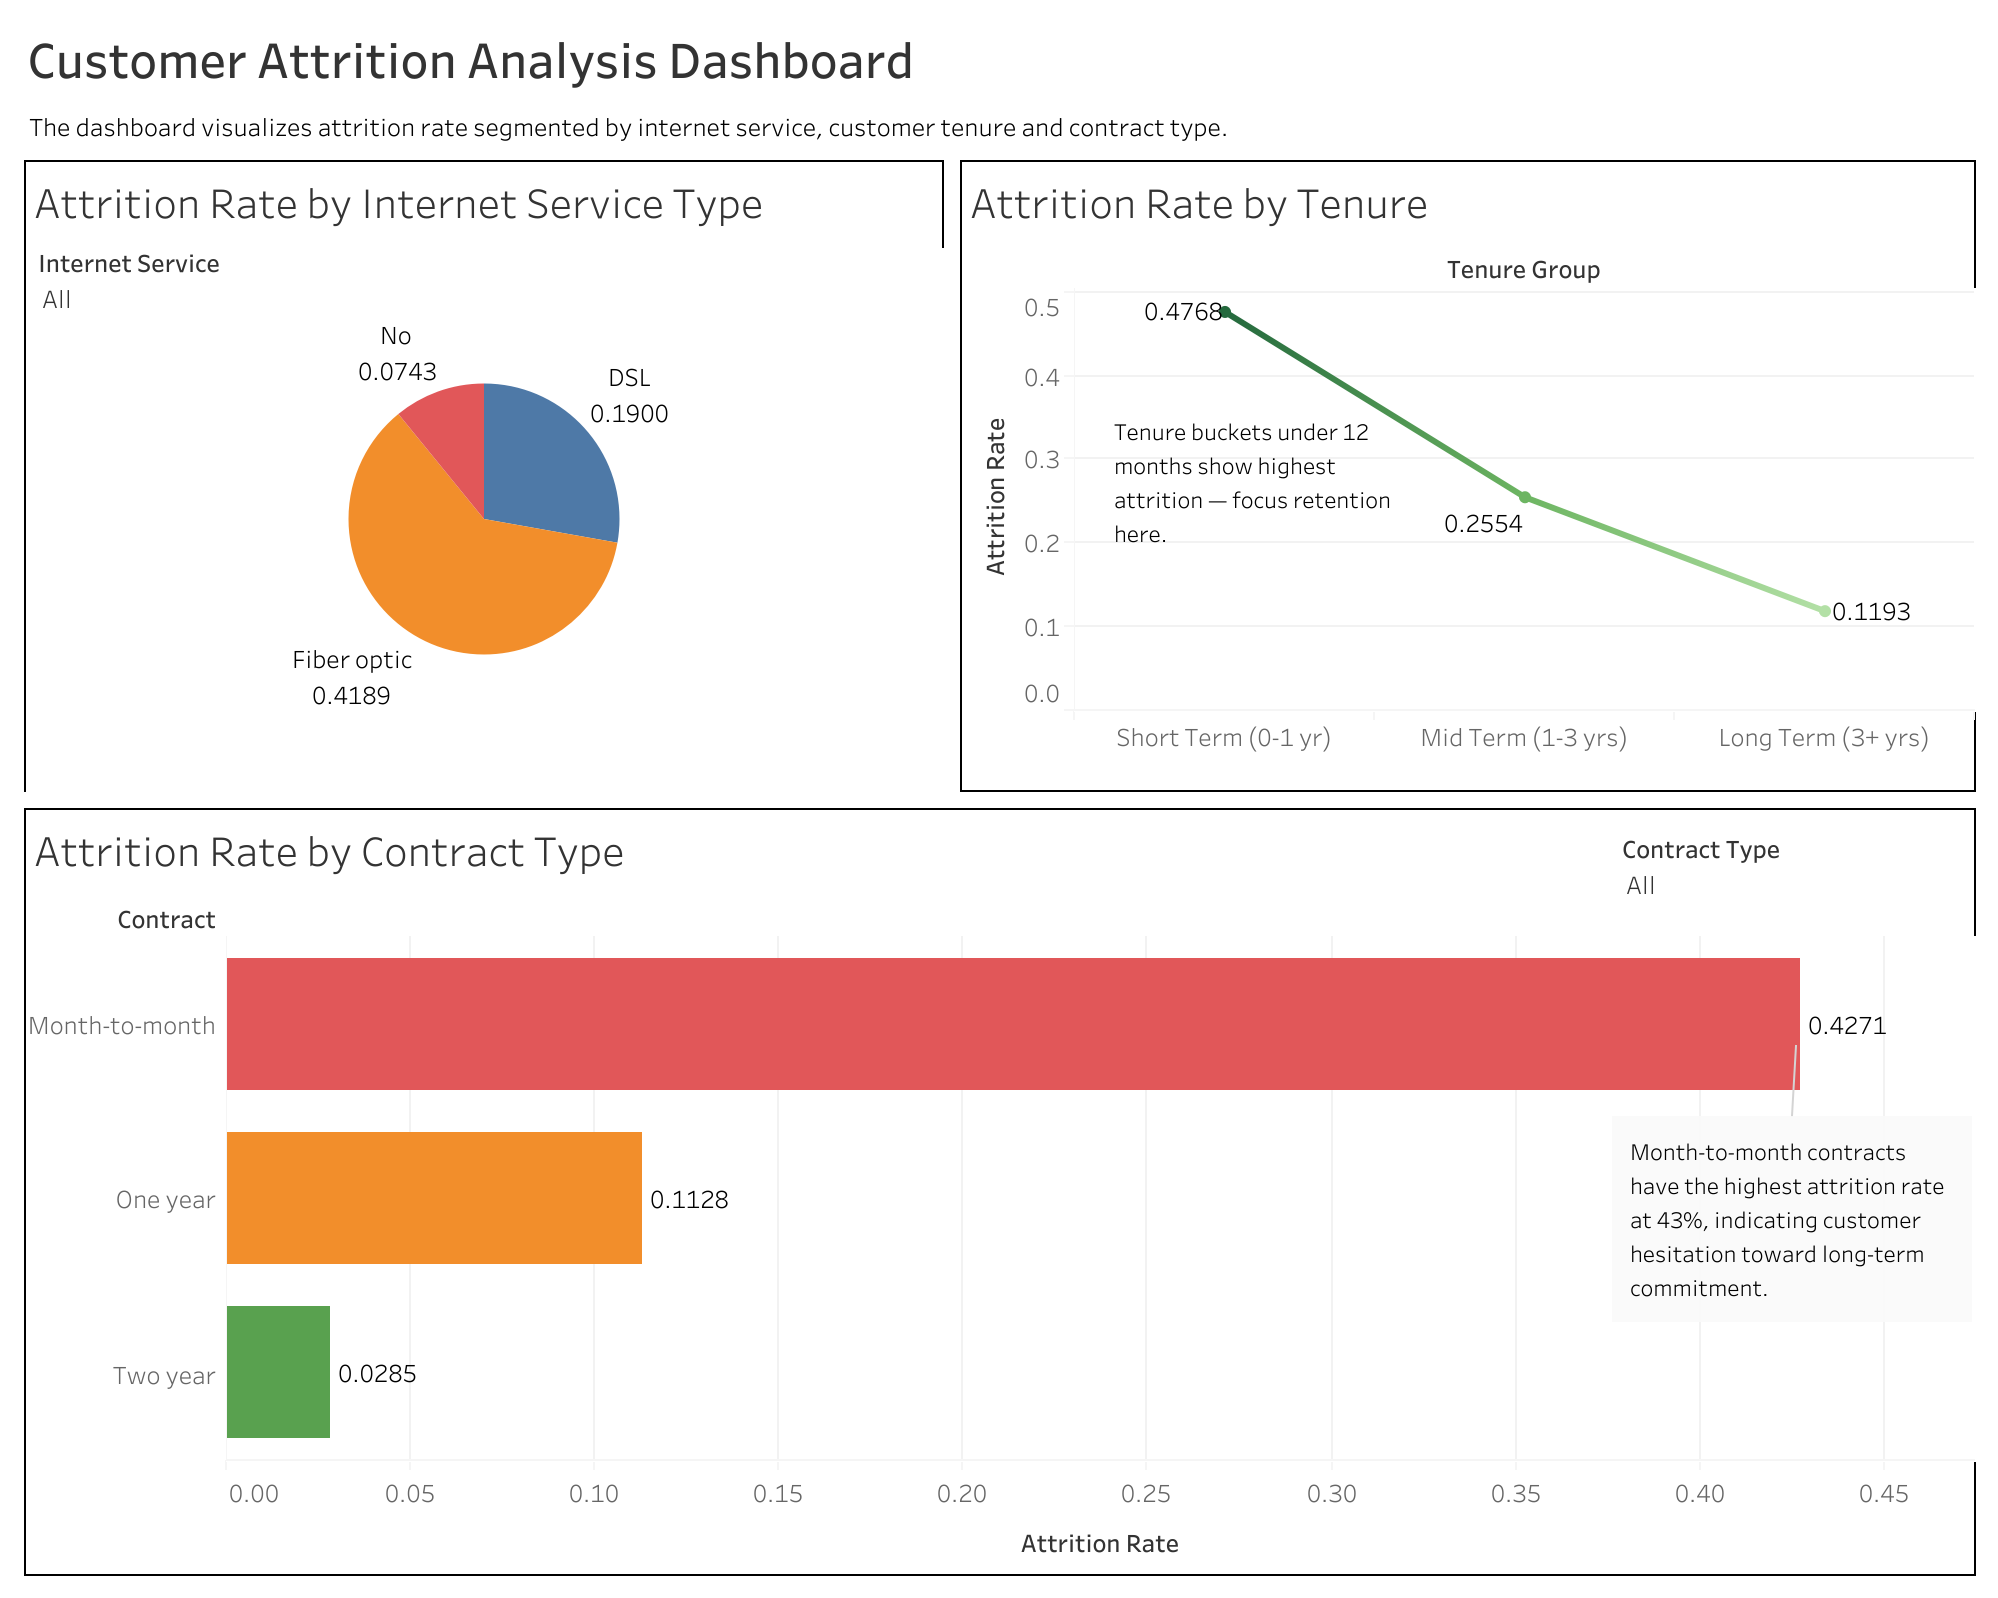

The dashboard page shown, as its layout file describes it:
{"tool":"tableau","page":{"name":"Dashboard 1","canvas":[1000,800],"ordinal":0},"visuals":[{"type":"title","box":[8,8,984,41]},{"type":"text","box":[8,49,984,25]},{"type":"worksheet","title":"Service Churn","mark":"Pie","box":[8,74,468,326]},{"type":"worksheet","title":"Tenure Churn","mark":"Line","rows":["AttritionRate"],"cols":["TenureGroup"],"box":[476,74,516,326]},{"type":"filter","title":"Service Churn","param":"[federated.17ca6ox1db9u3u1aezw5y0jtblay].[none:InternetService:nk]","box":[19,121,135,43]},{"type":"worksheet","title":"Contract Churn","mark":"Automatic","rows":["Contract"],"cols":["AttritionRate"],"box":[8,400,984,392]},{"type":"filter","title":"Contract Churn","param":"[federated.1wqtopn153juuj19tvsrc1nr9x6o].[none:Contract:nk]","box":[811,414,168,51]}]}

Visuals, with their boxes in screenshot pixels (x1, y1, x2, y2), scaled from the page's 1000x800 canvas onto the 1998x1598 screenshot:
title: rect(16, 16, 1982, 98)
text: rect(16, 98, 1982, 148)
"Service Churn" worksheet (Pie marks): rect(16, 148, 951, 799)
"Tenure Churn" worksheet (Line marks): rect(951, 148, 1982, 799)
"Service Churn" filter: rect(38, 242, 308, 328)
"Contract Churn" worksheet: rect(16, 799, 1982, 1582)
"Contract Churn" filter: rect(1620, 827, 1956, 929)
